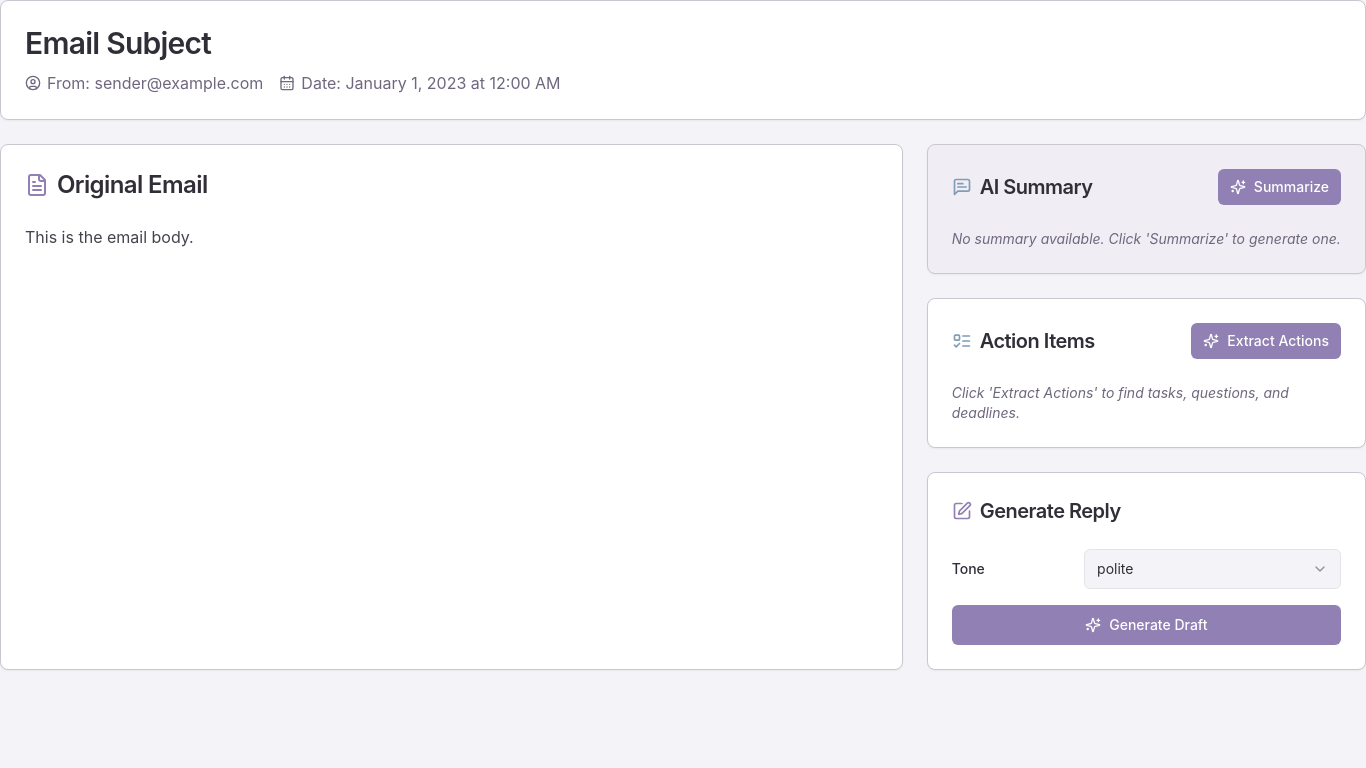
Scenario: EmailView › Action Item Extraction › displays a message when no action items are found
Click the button "Extract Actions".
click(1266, 341)  # box [1191,323,1341,359]
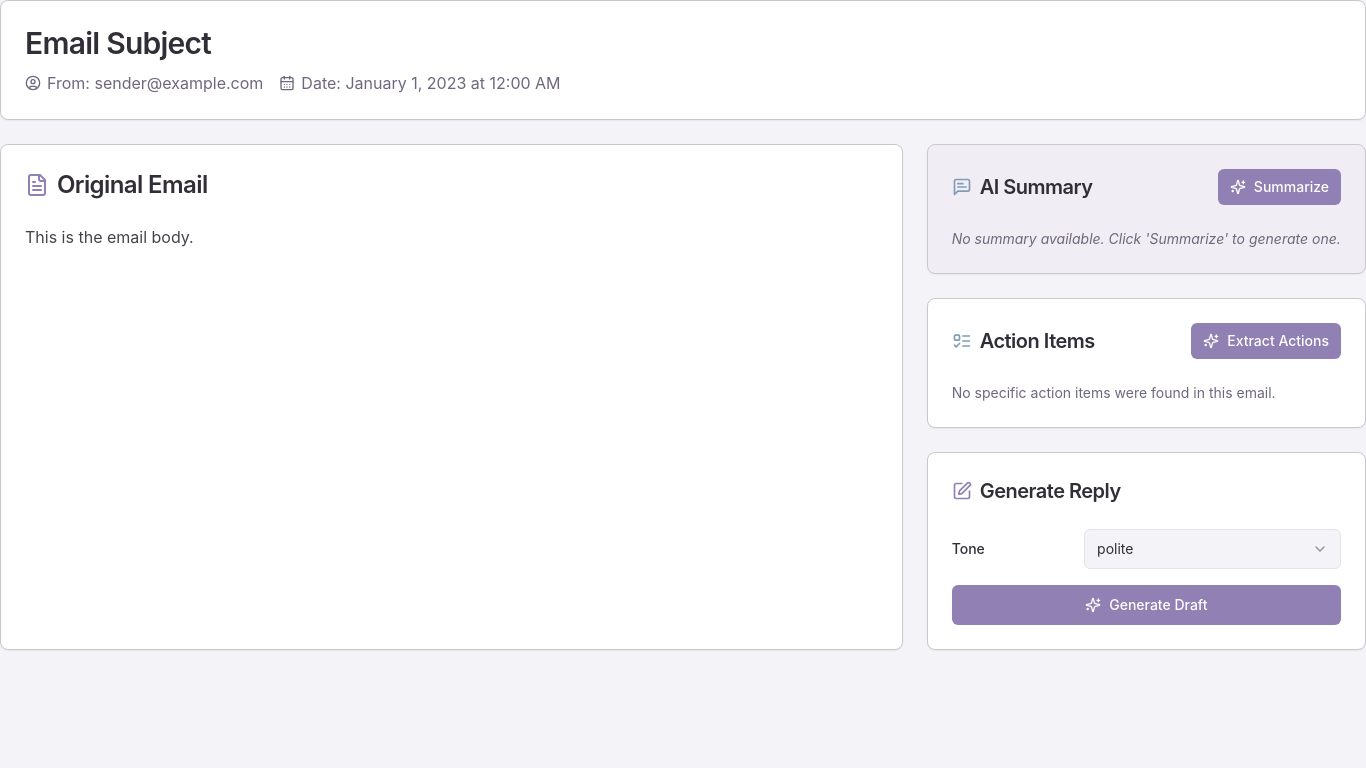
Result: the text "No specific action items were found in this email." is shown at [952,384,1276,401]
